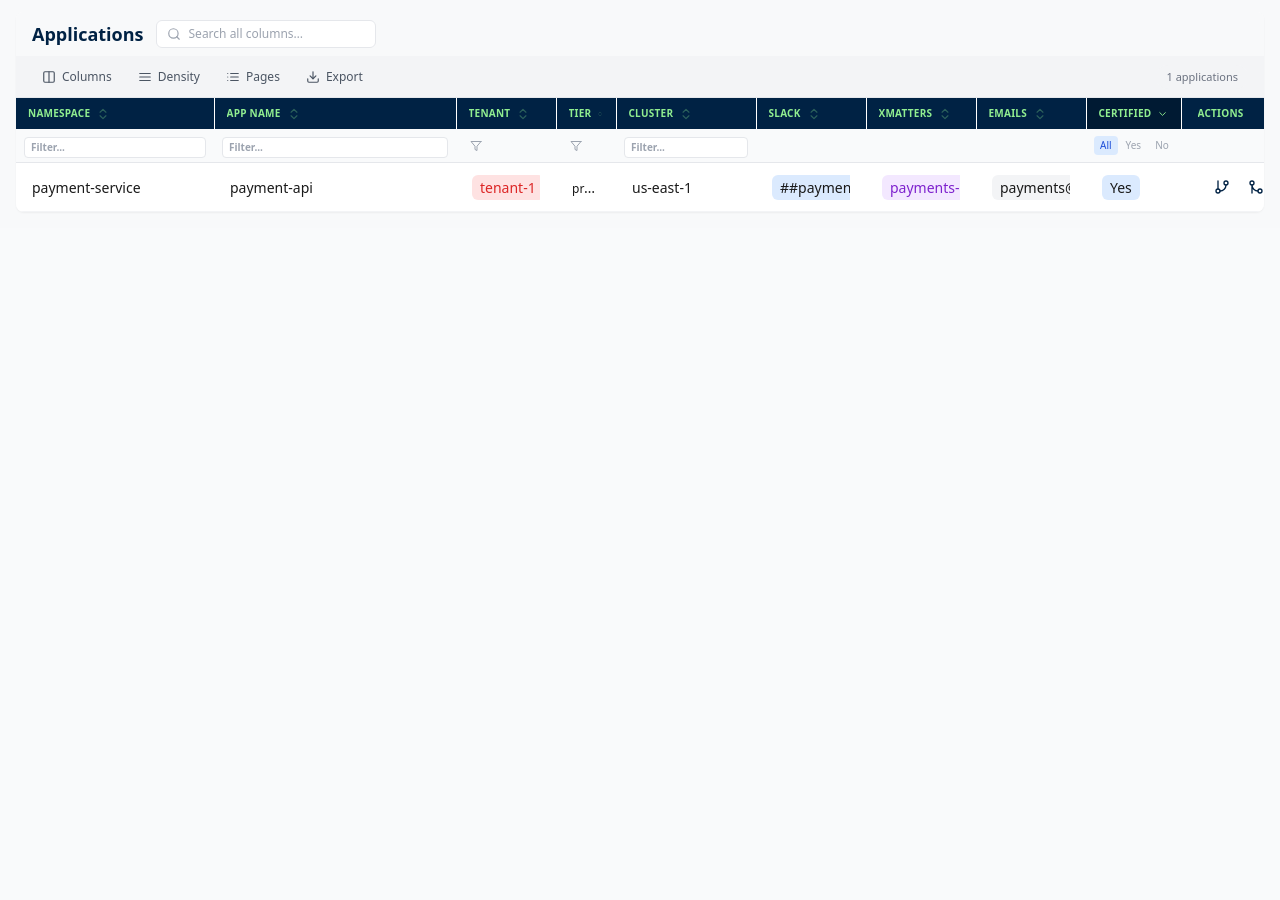
Test: ApplicationsView › Loading spinner dark mode classes › spinner disappears after upstream fetch completes
What coordinates should you click on to do the following:
click the button titled "View upstream dependencies"
I would click on:
 (1256, 187)
Its box is [1242,173,1270,201].
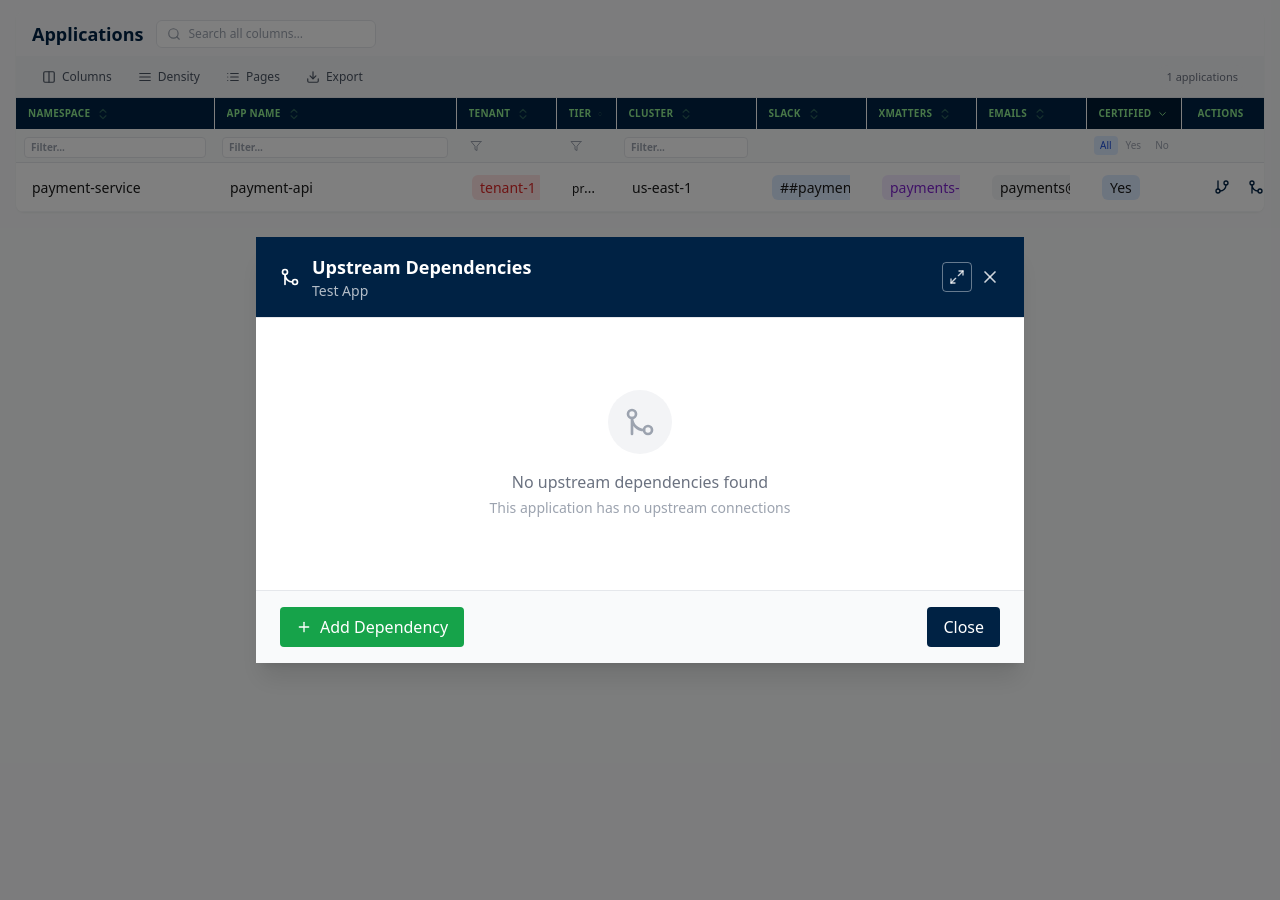
Expected: the element with class "animate-spin" is shown, [608,390,672,454]
